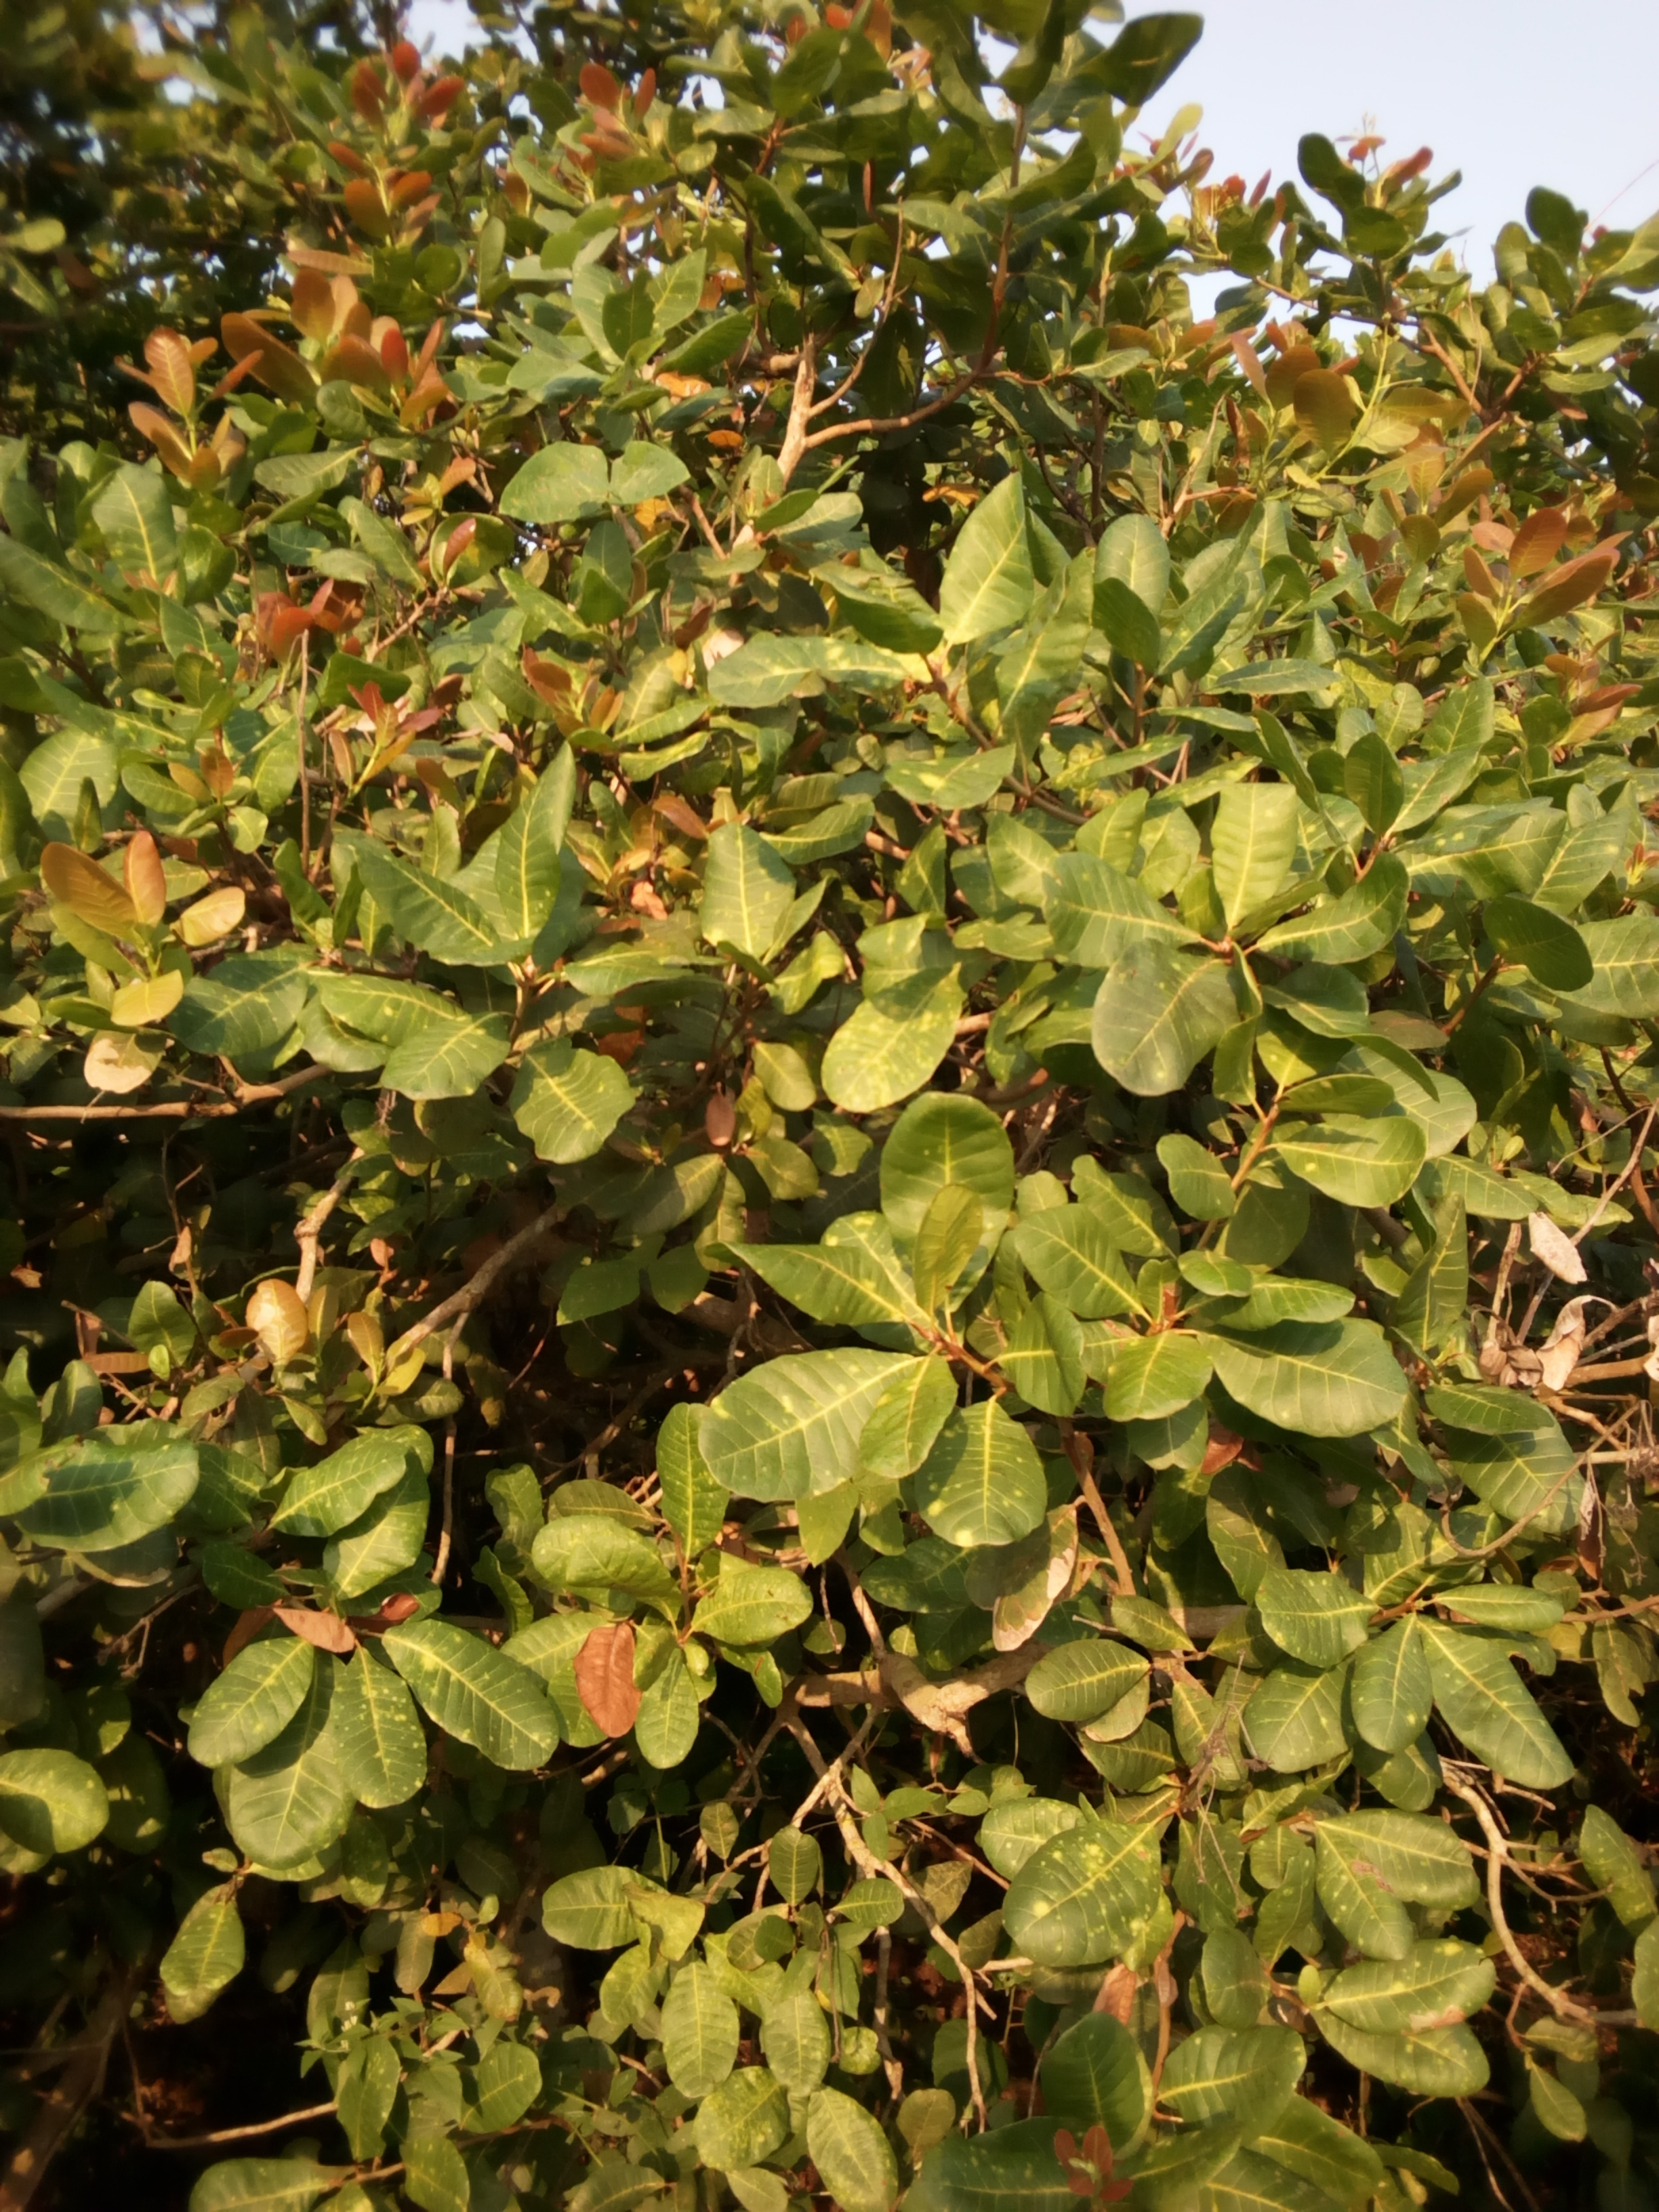Carence minérale: (399, 1611, 589, 1780), (7, 1425, 234, 1557), (995, 1820, 1182, 1980), (687, 611, 931, 723), (305, 1641, 450, 1815), (1331, 1930, 1547, 2045), (1080, 951, 1243, 1103), (816, 988, 992, 1120), (507, 1038, 671, 1170), (1249, 1557, 1399, 1679), (863, 723, 1046, 822), (314, 960, 491, 1055)
